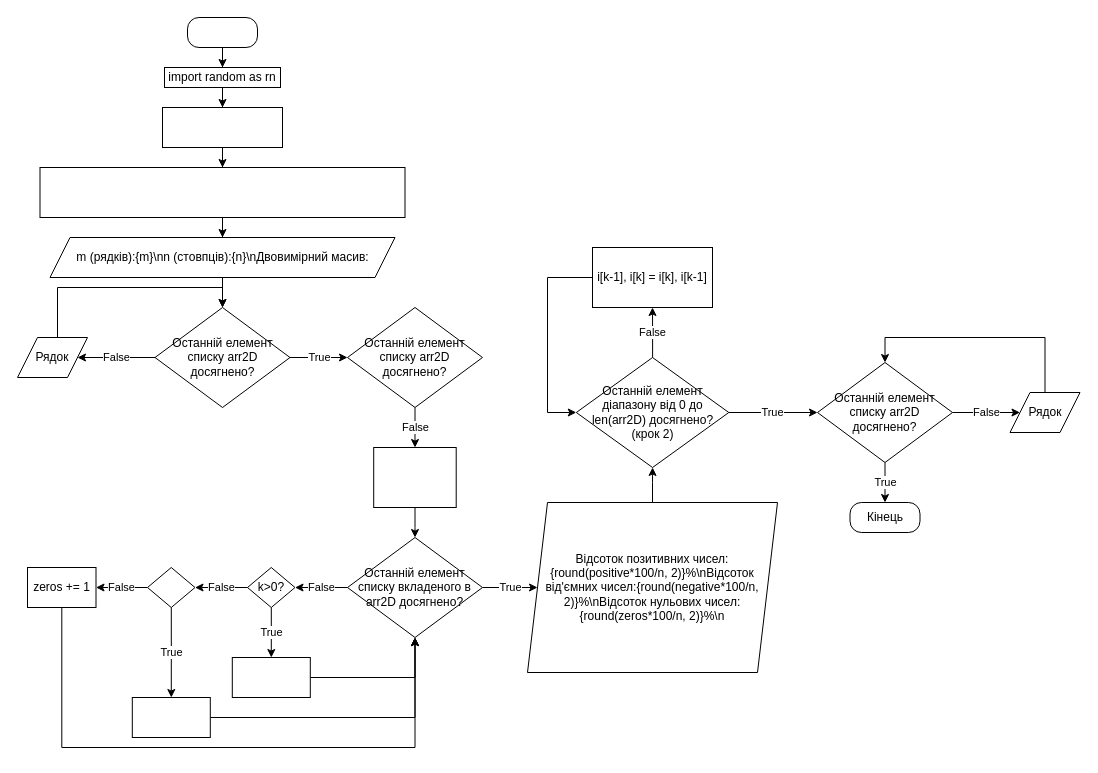
Some shapes in this 1098 by 773 pixel diagram are drawn without their labels. Each missing label, with the centre of its shape:
arr2D = [[rn.randint(-1000, 1000) for k in range(n)] for i in range(m)]: the point at 222,192
k<0?: the point at 170,587
m = rn.randint(1, 7) n = rn.randint(1, 7): the point at 222,127
negative += 1: the point at 170,717
negative = 0 positive = 0 zeros = 0: the point at 414,477
positive += 1: the point at 270,677
Початок: the point at 222,32
